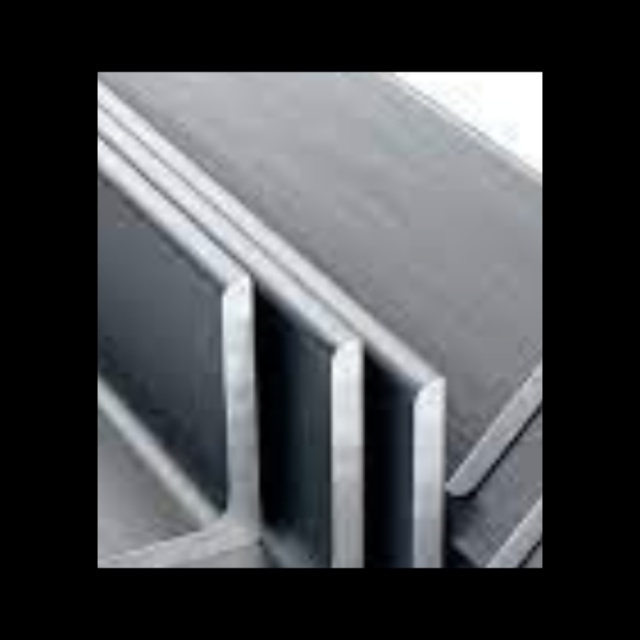Angle: (98, 348, 355, 568), (166, 396, 436, 568), (98, 301, 240, 568), (466, 275, 542, 485), (504, 350, 542, 561), (516, 426, 542, 568)
